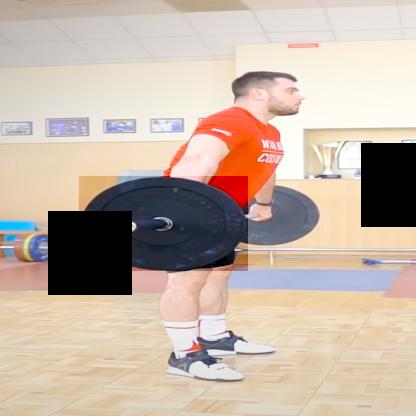barbell: (80, 177, 249, 272)
